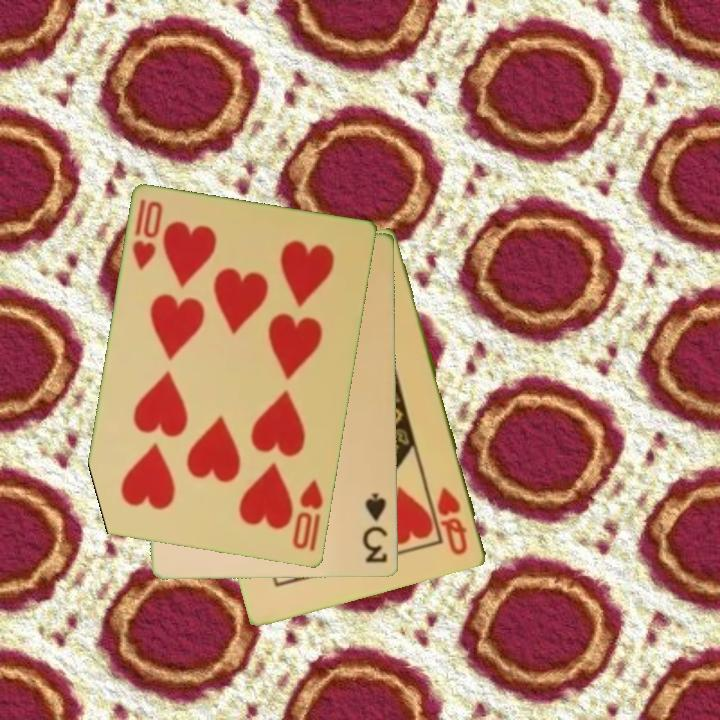10h: (289, 476, 326, 555), (129, 196, 166, 274)
3s: (360, 490, 391, 566)
Qh: (434, 484, 471, 559)
